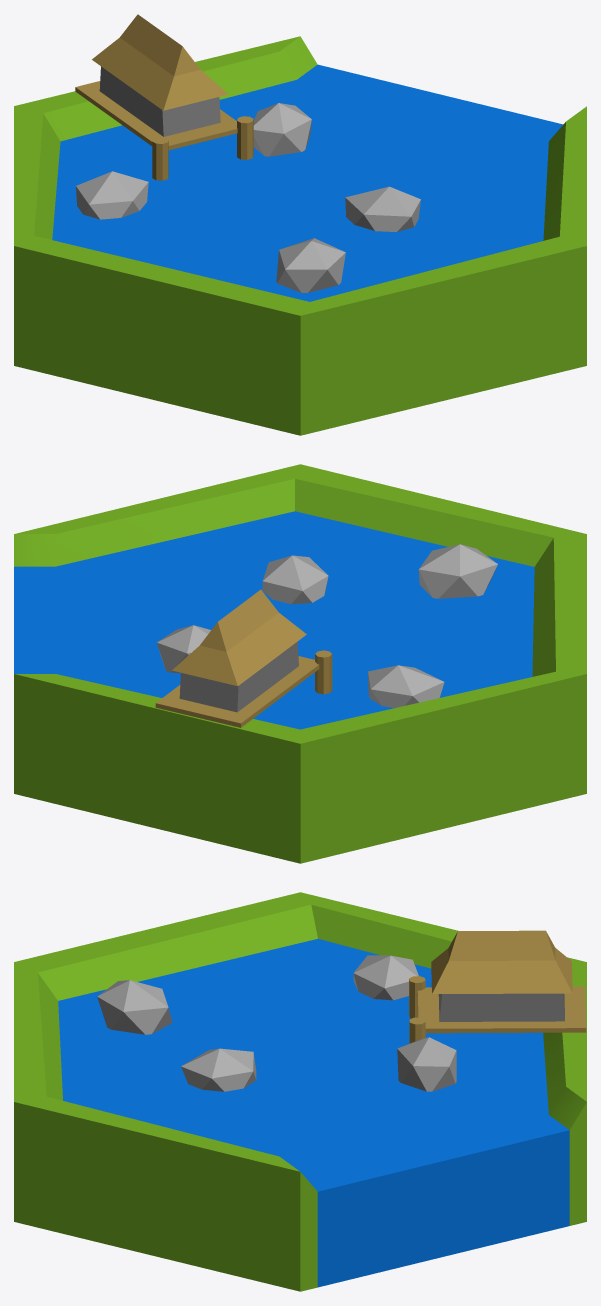
File: Casas_Lago_1.fbx
3 renders of one model, top to bottom at view 1: azimuth 30°, elevation 25°; view 2: azimuth 150°, elevation 25°; view 3: azimuth 270°, elevation 25°, orthographic.
Parts seen in each view (by area): view 1: Casas_Lago_1; view 2: Casas_Lago_1; view 3: Casas_Lago_1.
Boxes of the visible parts, <box> form: Casas_Lago_1: <box>14,14,586,435</box>; Casas_Lago_1: <box>14,464,586,863</box>; Casas_Lago_1: <box>14,892,586,1291</box>.
Bounding box in the file's own units: 200 × 67.29 × 173.
